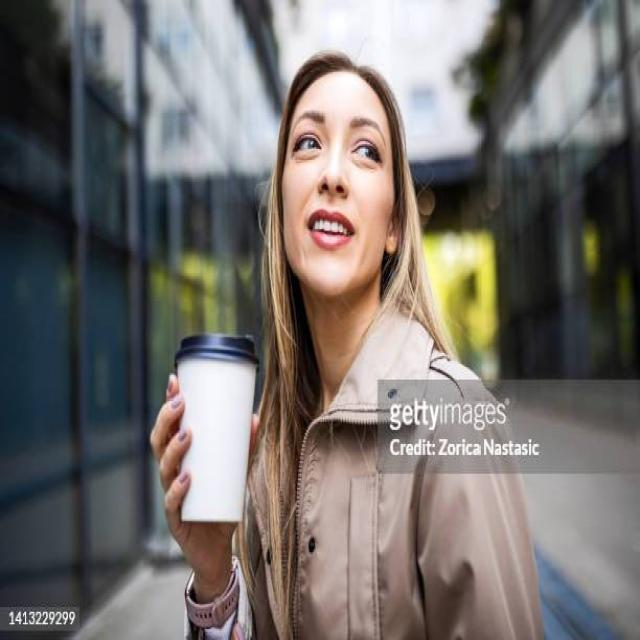cup: (173, 335, 262, 527)
